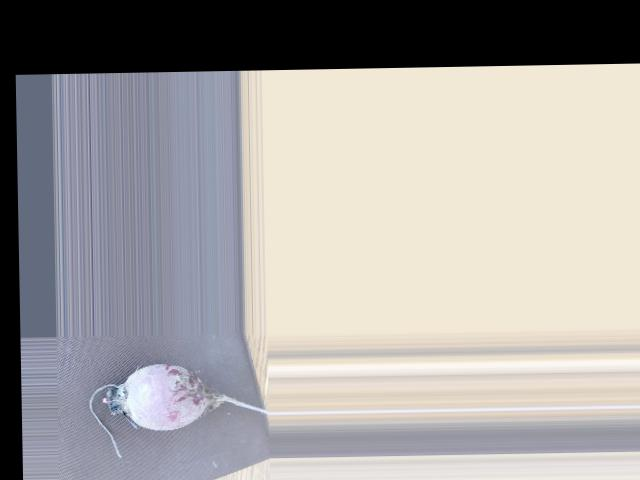beet: (89, 361, 271, 458)
